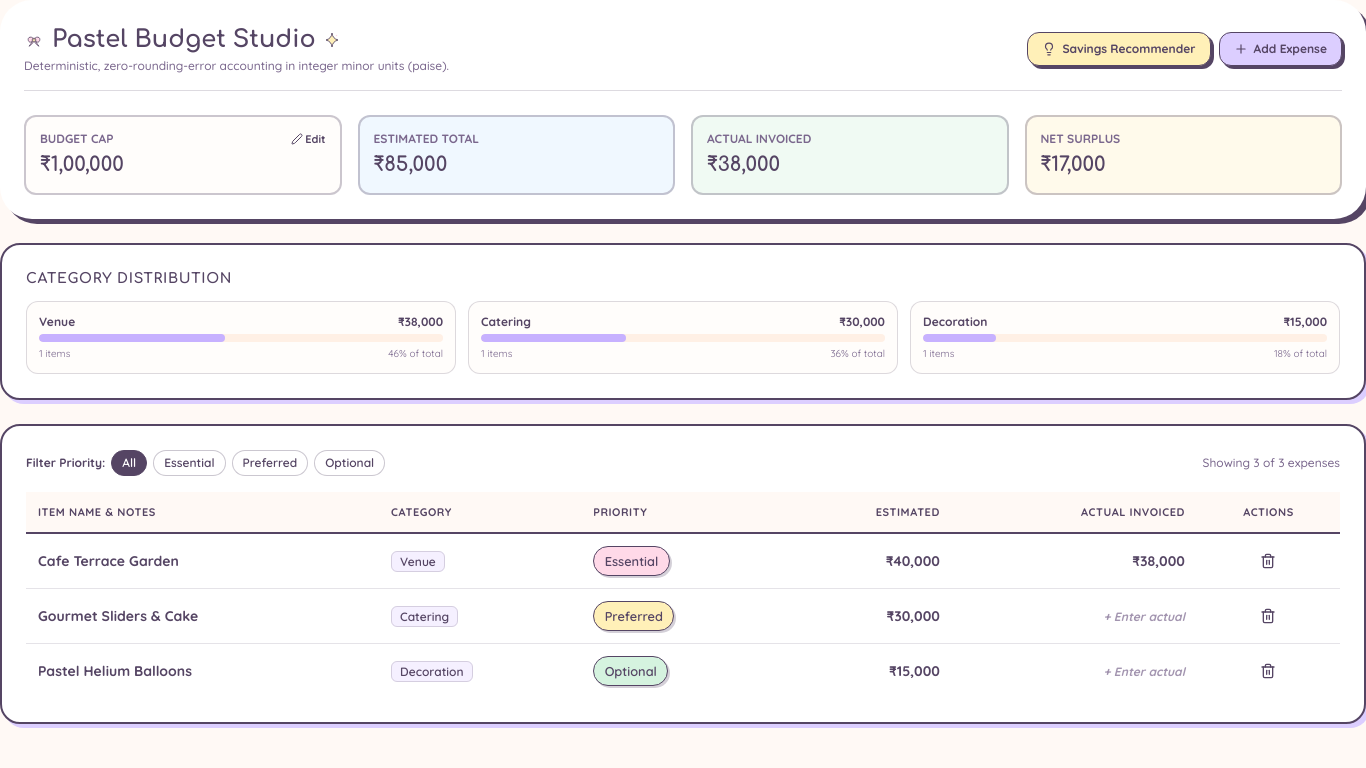
BudgetStudioTab Component › opens deterministic savings recommender modal
This screenshot has width=1366, height=768.
Step 1. Click the button "Savings Recommender" → [1119, 49], box [1027,32,1211,66]
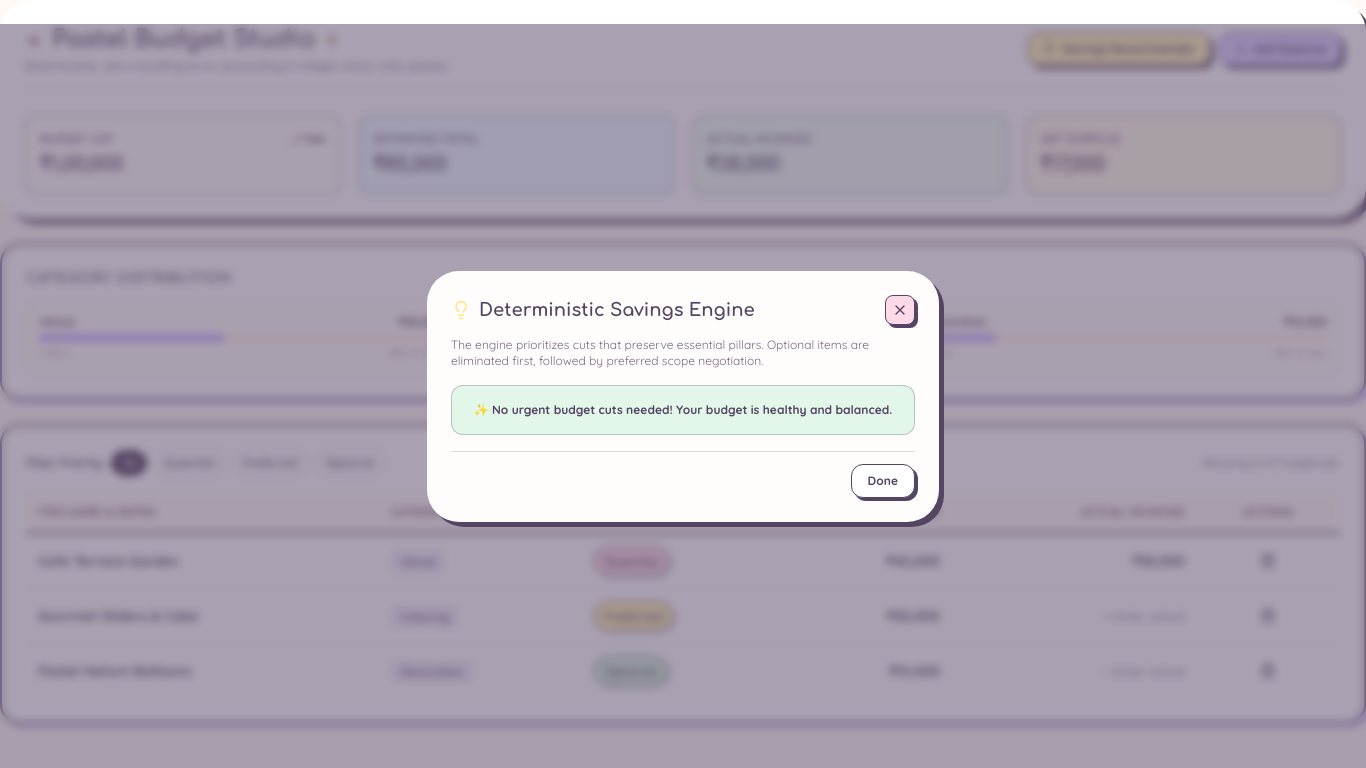
Expected: the heading "Deterministic Savings Engine" is shown, [479,296,755,324]
